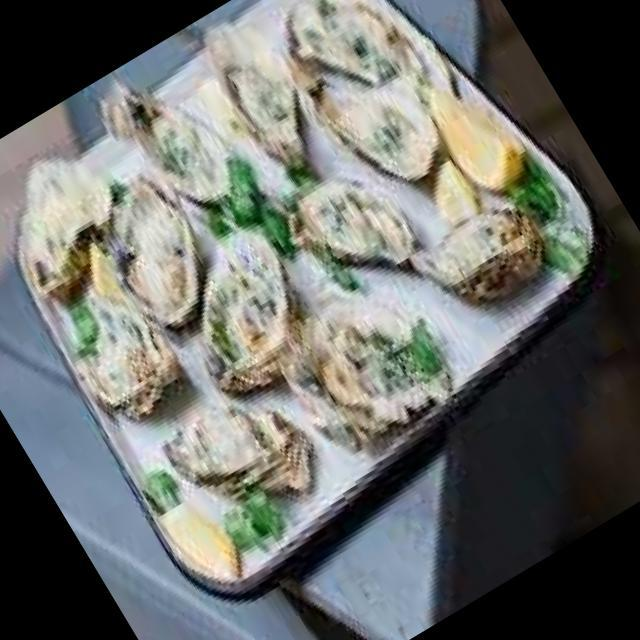Oyster- Indeterminate: (289, 290, 443, 446), (73, 246, 184, 419), (110, 181, 207, 335), (313, 75, 439, 185), (204, 233, 290, 390), (162, 411, 316, 498), (209, 29, 304, 165), (113, 97, 232, 205), (22, 166, 116, 297), (283, 0, 422, 86), (422, 212, 547, 307), (300, 183, 417, 270)
